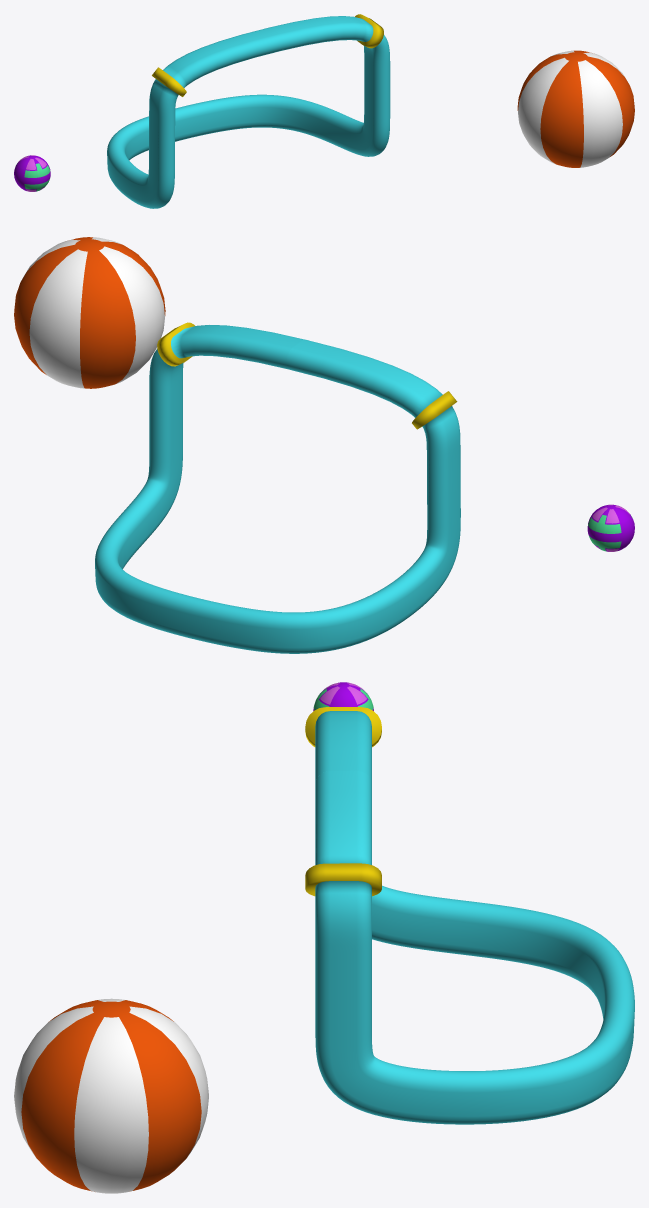
The model's file is GOAL_BEACH_BALL_WATER_POLO_BALL.fbx.
The picture shows the model from 3 angles, top to bottom: view 1: azimuth 30°, elevation 25°; view 2: azimuth 150°, elevation 25°; view 3: azimuth 270°, elevation 25°; orthographic projection. The views are drawn at different scales.
Visible parts, largest first — view 1: goal, ball, water polo ball; view 2: goal, ball, water polo ball; view 3: goal, ball, water polo ball.
Part boxes in pixels (left/top/right/bottom): goal: left=107, top=14, right=390, bottom=208; ball: left=517, top=50, right=634, bottom=167; water polo ball: left=14, top=155, right=50, bottom=191; goal: left=95, top=322, right=460, bottom=653; ball: left=14, top=237, right=165, bottom=388; water polo ball: left=587, top=504, right=634, bottom=551; goal: left=305, top=707, right=634, bottom=1124; ball: left=14, top=998, right=208, bottom=1193; water polo ball: left=313, top=682, right=373, bottom=710.
Size of the model in its own units: 1505 by 442 by 902.
